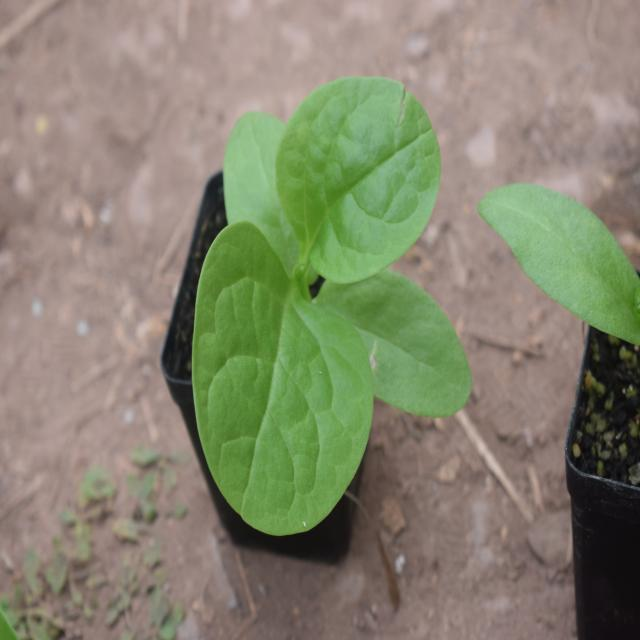Ceylon spinach: (161, 81, 475, 530)
